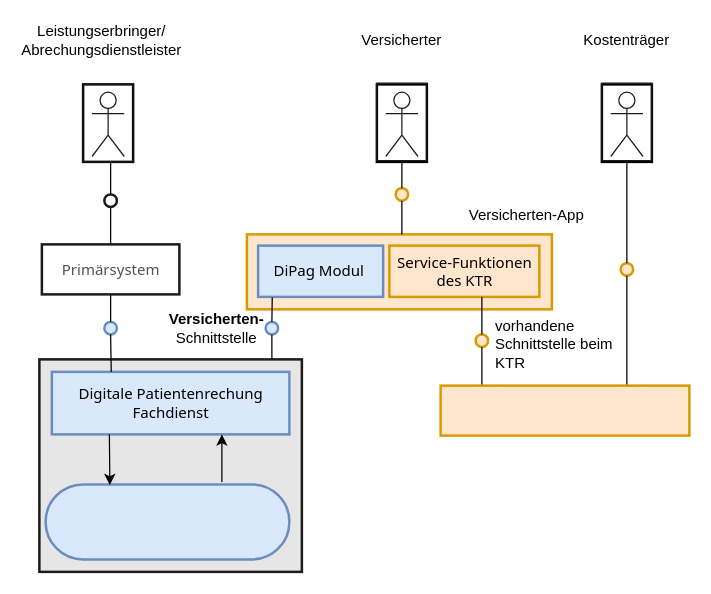
This 711x594 diagram has some shape labels left out. Each missing label, with the centre of its shape:
"Rechnungen/Dokumente (PDF+Daten)" goes at point (167, 521).
"Vorhandenes Backend des KTR" goes at point (564, 410).
